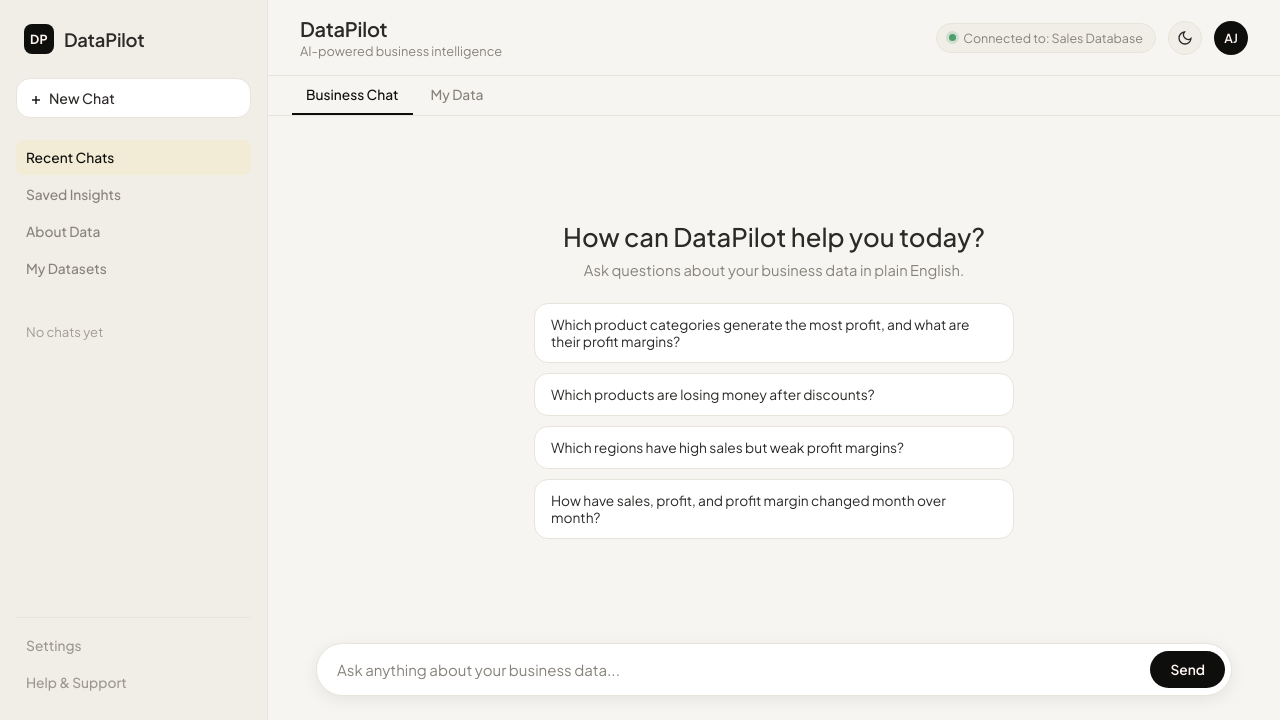
Test: answer presentation › colors opposing trends separately within the same sentence and preserves bold formatting
In the field with placeholder "Ask anything about your business data...": (739, 670) 337,650 -> 1140,689, type "How did sales and profit change?"
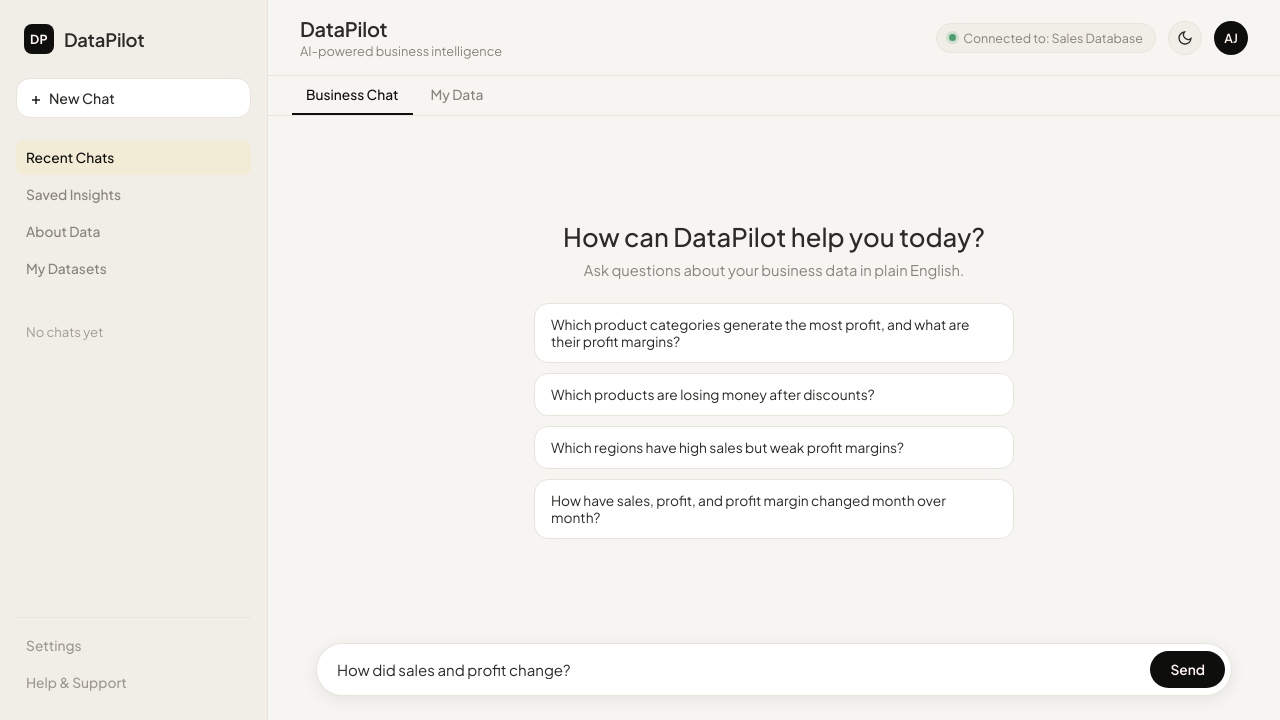
Click the button "Send": (1188, 670) 1150,651 -> 1225,688
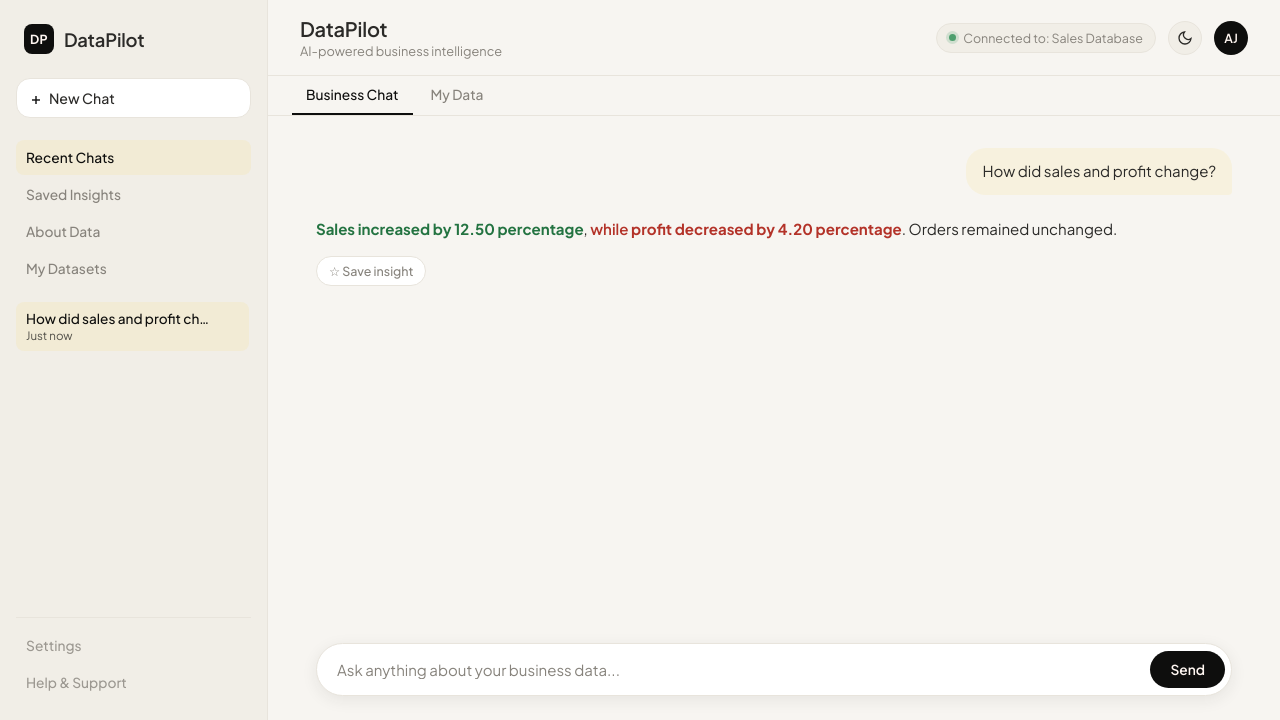
Now the text "Sales increased by 12.50 percentage" is shown, box 316,219 -> 584,238
Now the text "profit decreased by 4.20 percentage" is shown, box 631,219 -> 902,238
